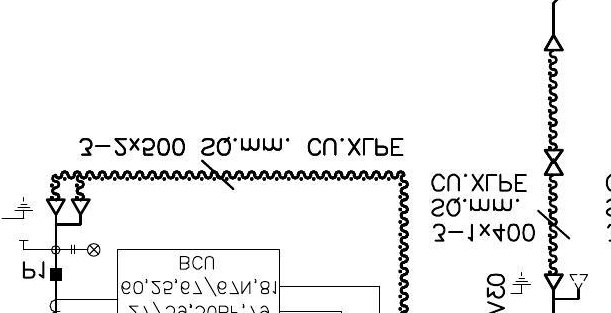22_gs: (1, 197, 35, 243)
22_ll: (70, 242, 101, 257)
terminator_double: (45, 198, 92, 227)
terminator_single: (543, 34, 565, 53)
terminator_splicing_kits: (543, 149, 564, 177)
terminator_w_future: (543, 272, 590, 302)
